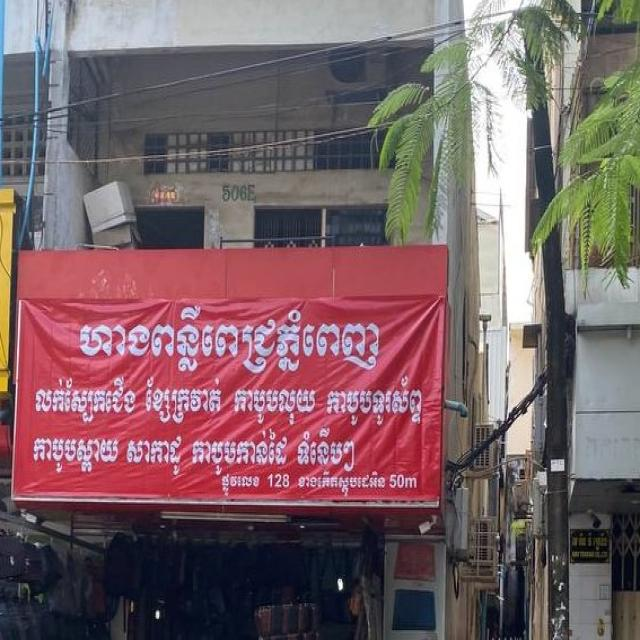3: (32, 366, 426, 424), (26, 427, 358, 471)
42: (218, 464, 412, 496)
Yolov11_80vkh: (76, 299, 382, 374)
